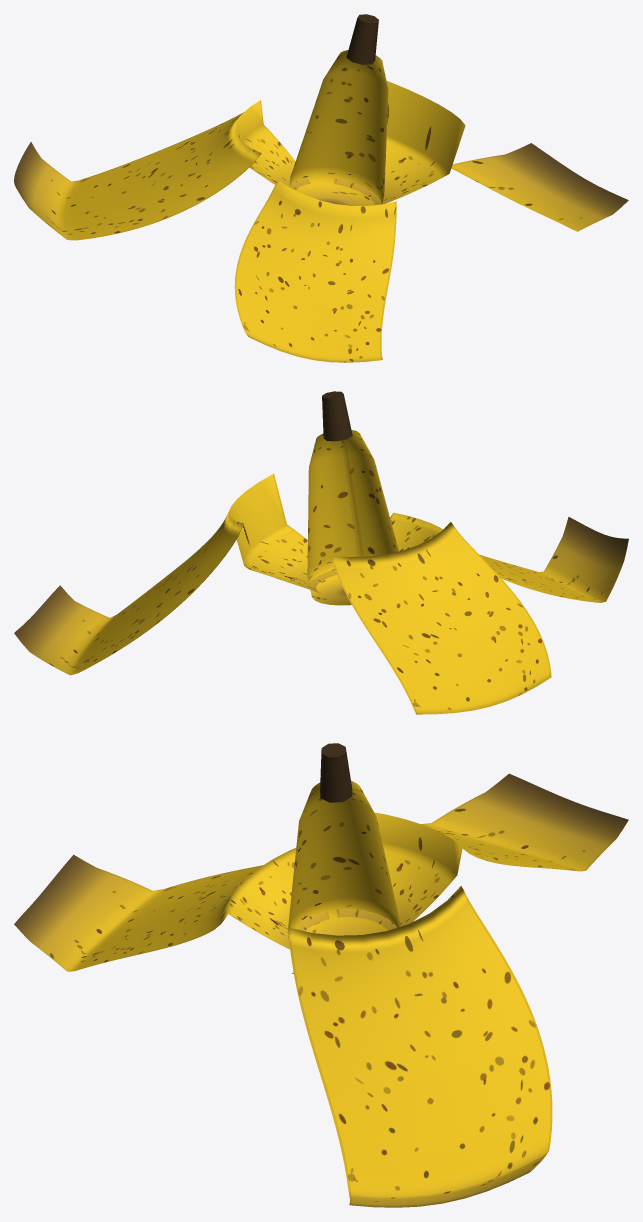
The model's file is banana.glb.
The picture shows the model from 3 angles, top to bottom: view 1: azimuth 30°, elevation 25°; view 2: azimuth 150°, elevation 25°; view 3: azimuth 270°, elevation 25°; orthographic projection. The views are drawn at different scales.
Parts seen in each view (by area): view 1: banana-peel-1, banana-peel-2, banana-peel-0, banana-stem, banana-tip; view 2: banana-peel-2, banana-peel-0, banana-stem, banana-peel-1, banana-tip; view 3: banana-peel-0, banana-peel-1, banana-peel-2, banana-stem, banana-tip.
Part boxes in pixels (x1,y1,x2,y2): banana-peel-1: (234,180,396,362); banana-peel-2: (14,100,310,240); banana-peel-0: (334,81,628,231); banana-stem: (289,50,388,205); banana-tip: (346,14,378,64); banana-peel-2: (331,522,551,714); banana-peel-0: (14,473,336,675); banana-stem: (307,430,398,605); banana-peel-1: (390,512,628,602); banana-tip: (322,391,352,441); banana-peel-0: (288,886,552,1207); banana-peel-1: (14,848,329,971); banana-peel-2: (336,773,628,930); banana-stem: (288,780,400,943); banana-tip: (320,743,352,802).
Bounding box in the file's own units: 0.1706 × 0.0824 × 0.141.
Materials: 4 (3 with a texture image).
